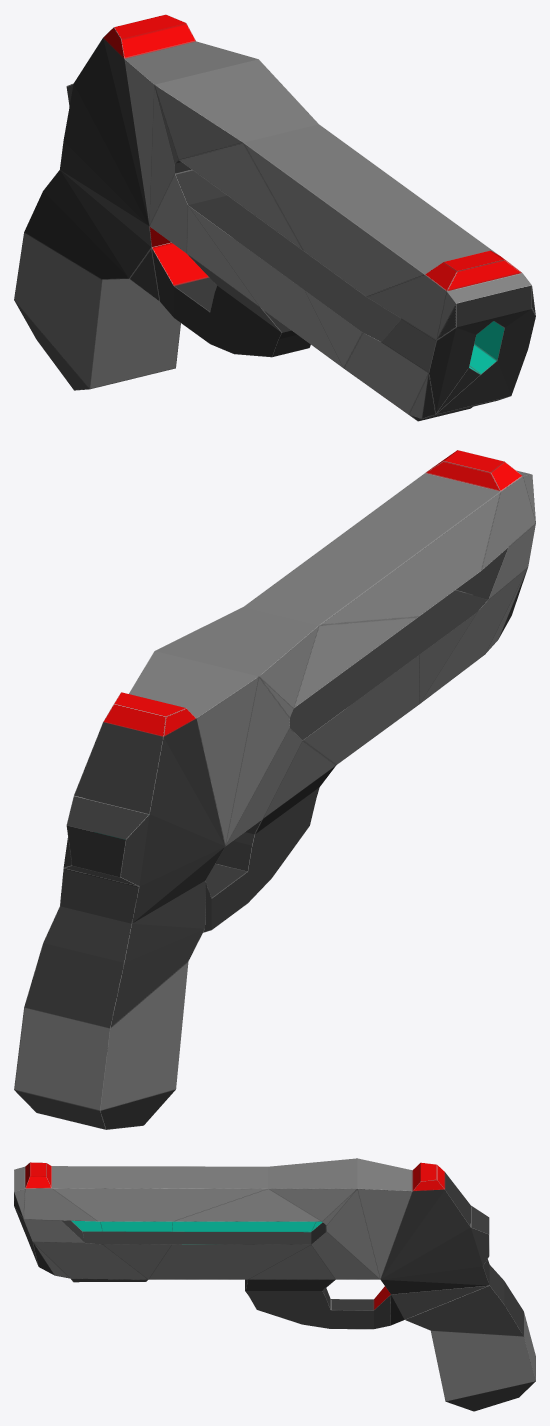
File: pistol.gltf
3 views of the same model, one above another, from view 1: azimuth 30°, elevation 25°; view 2: azimuth 150°, elevation 25°; view 3: azimuth 270°, elevation 25° (orthographic). The views are drawn at different scales.
Visible parts, largest first — view 1: Cube; view 2: Cube; view 3: Cube.
Part boxes in pixels (left/top/right/bottom): Cube: left=14, top=14, right=535, bottom=421; Cube: left=14, top=450, right=535, bottom=1129; Cube: left=14, top=1158, right=535, bottom=1411.
Bounding box in the file's own units: 0.762 × 2.46 × 5.01.
Materials: 1 (1 with a texture image).
